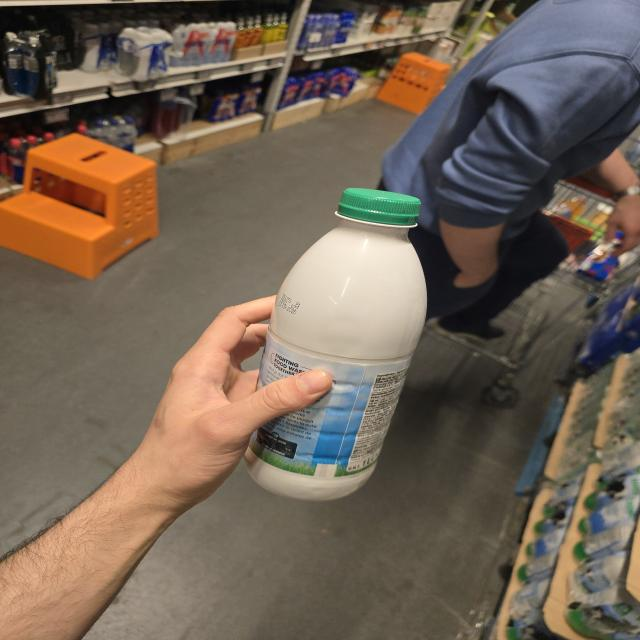Milk: (245, 188, 426, 500)
